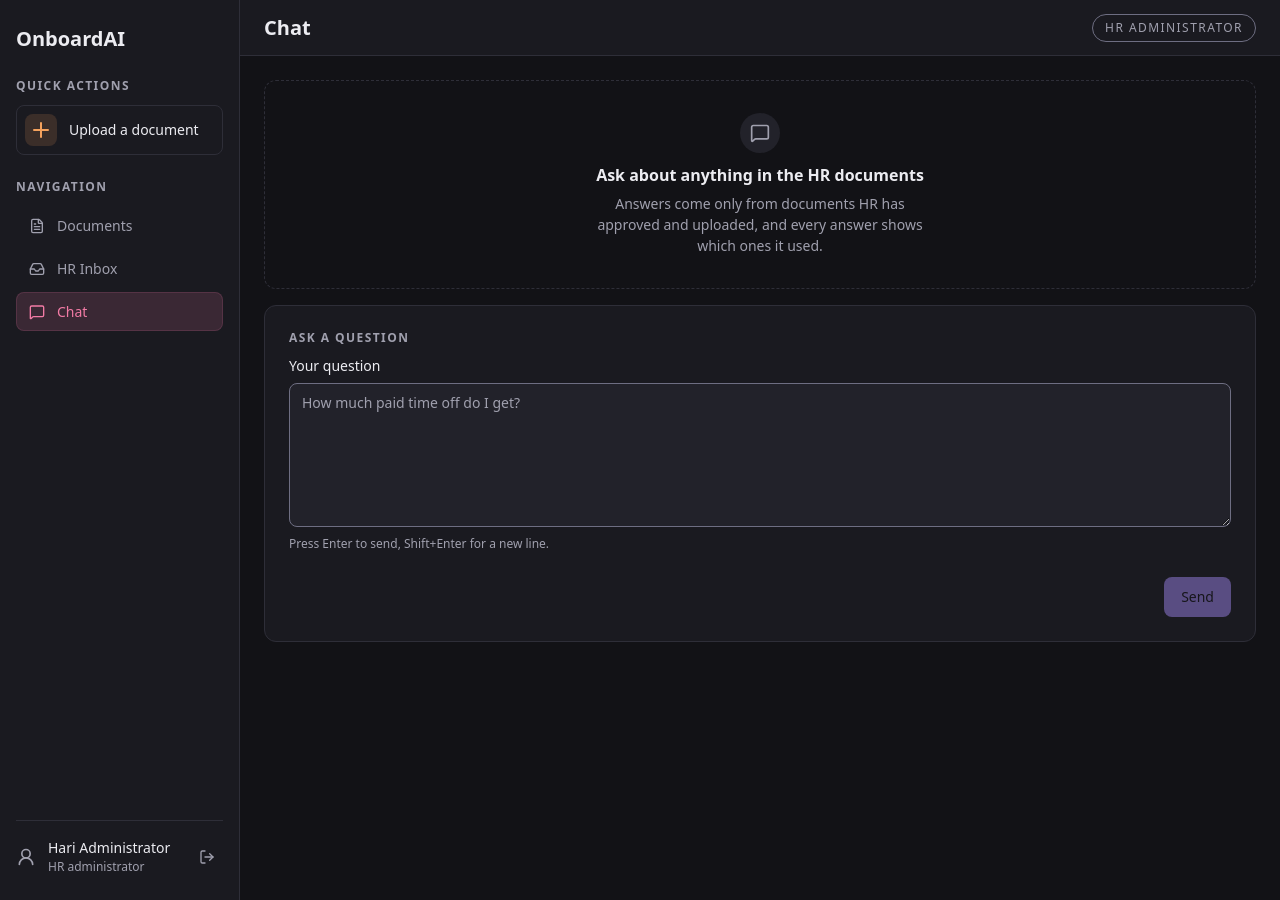
Scenario: navigating › follows a link in the rail
Click the link "HR Inbox": (73, 268) [29,259,117,278]
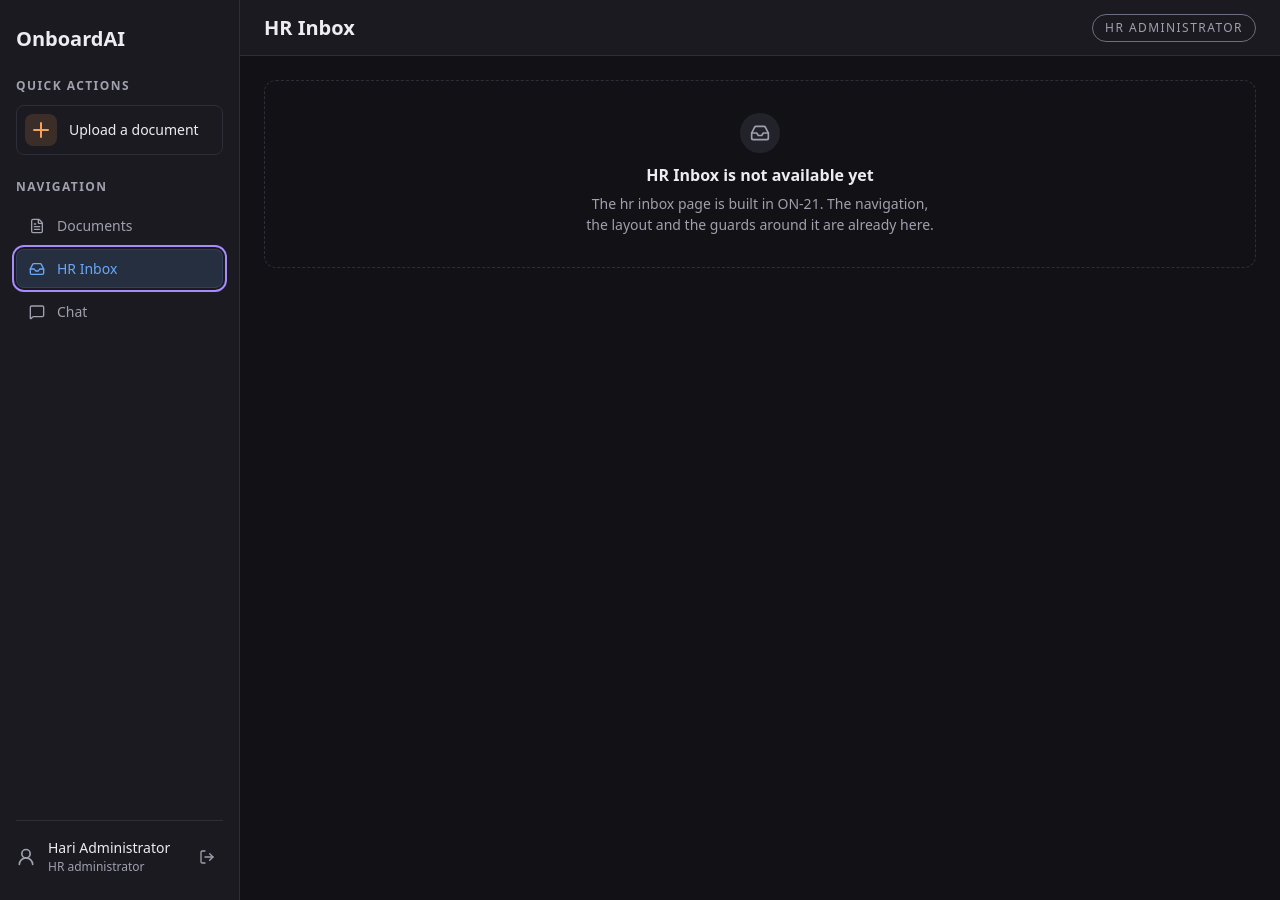
Expected: the heading "HR Inbox" is shown, [264,15,355,40]
